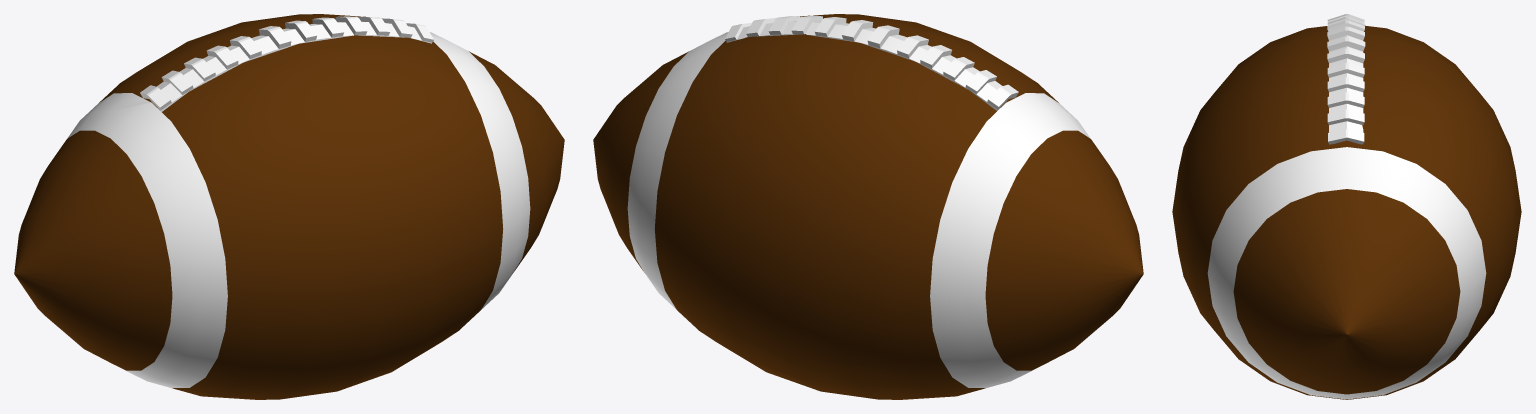
The model's file is football.dae.
3 renders of one model, left to right at view 1: azimuth 30°, elevation 25°; view 2: azimuth 150°, elevation 25°; view 3: azimuth 270°, elevation 25°, orthographic. The views are drawn at different scales.
Visible parts, largest first — view 1: SketchUp (×6); view 2: SketchUp (×6); view 3: SketchUp (×4).
Part boxes in pixels (box(x1,y1,x2,y2)): SketchUp (×6): box(14, 14, 564, 399); SketchUp (×6): box(593, 14, 1143, 399); SketchUp (×4): box(1172, 14, 1521, 399).
Size of the model in its own units: 10 by 6 by 6.15.
